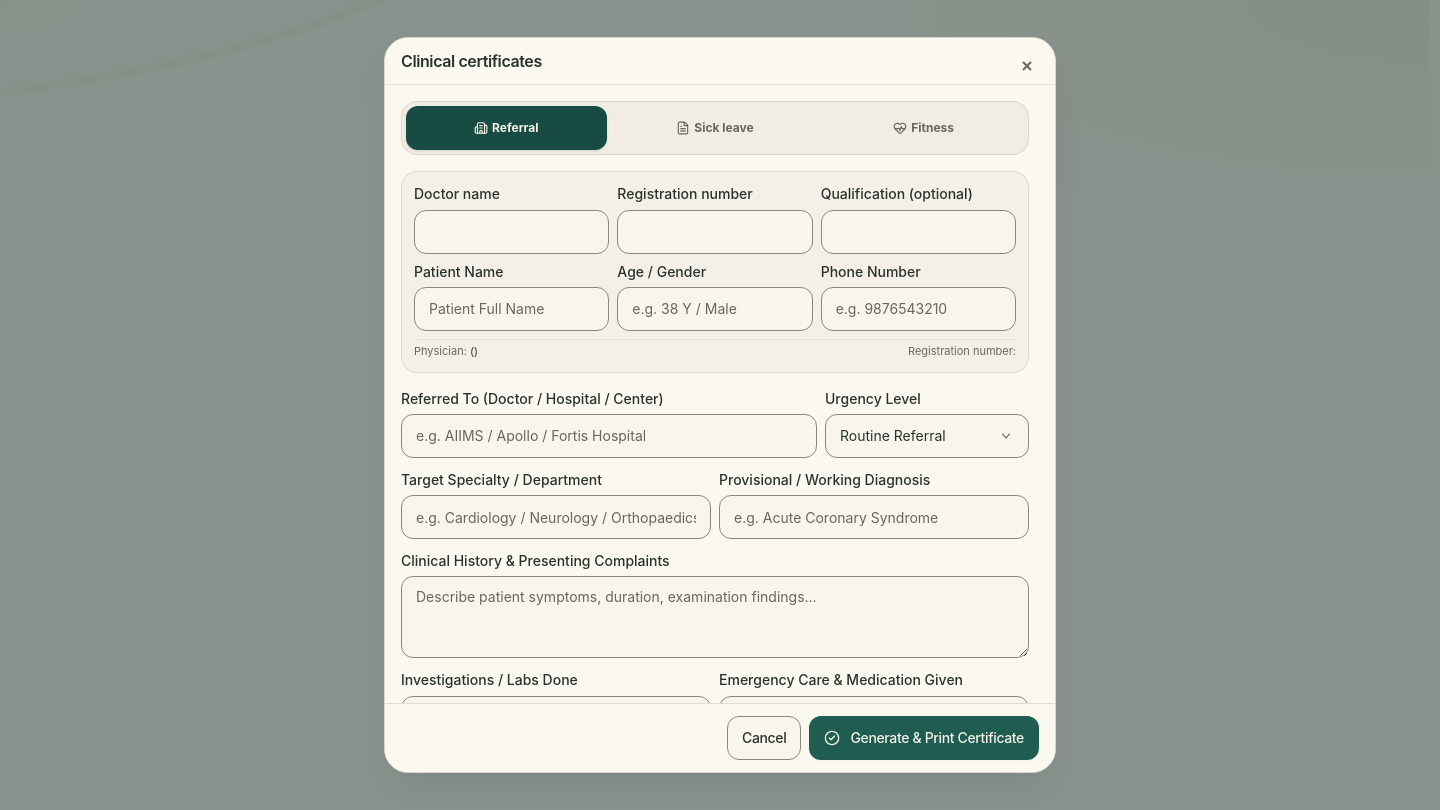
Test case: official clinical document generator › does not prefill fictional clinical findings or issue a document without real identity
Step 1. Type "Real Patient" into the field labelled "Patient Name" → (512, 309), box [414, 287, 609, 331]
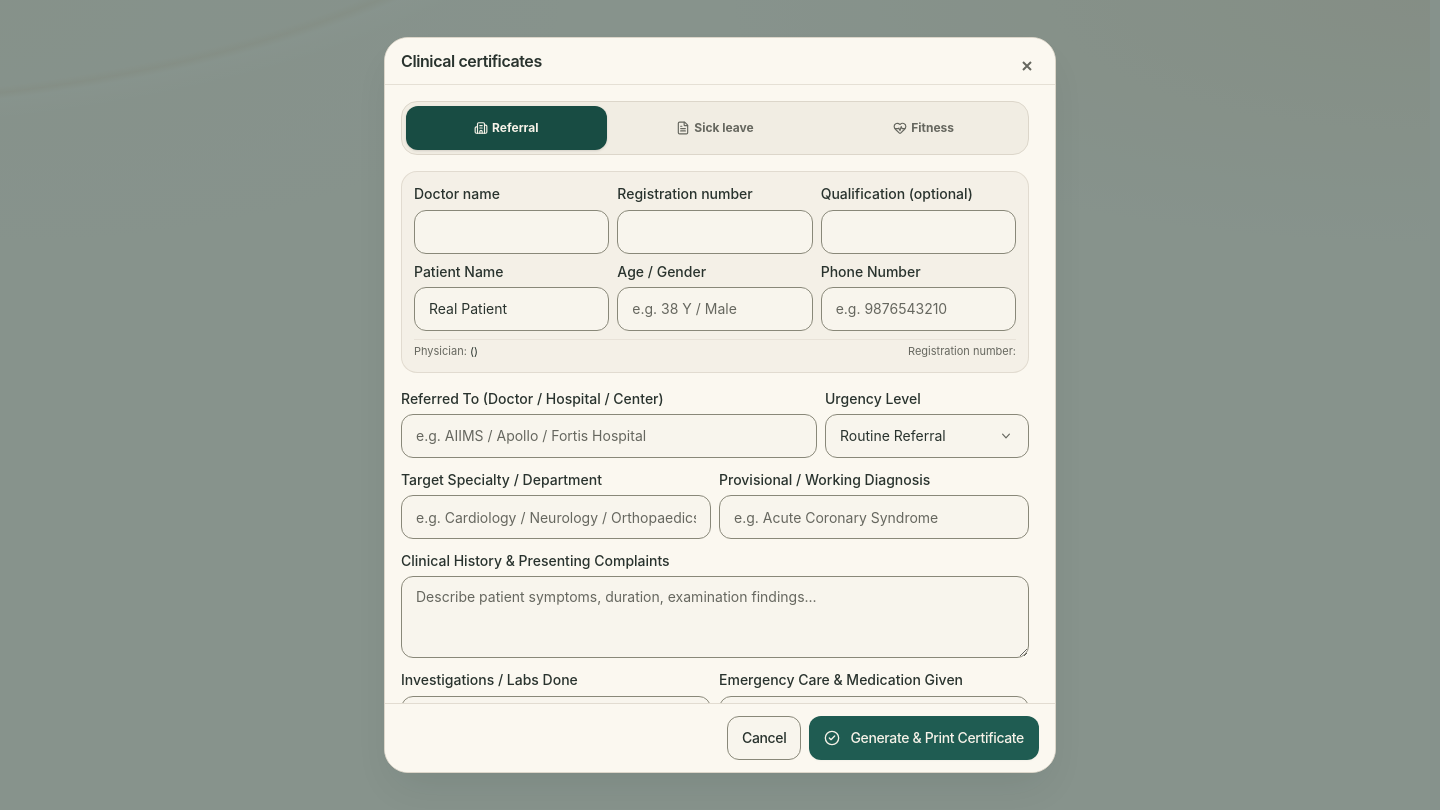
Step 2. Click the button "Generate & Print Certificate" → (924, 738), box [809, 716, 1039, 760]
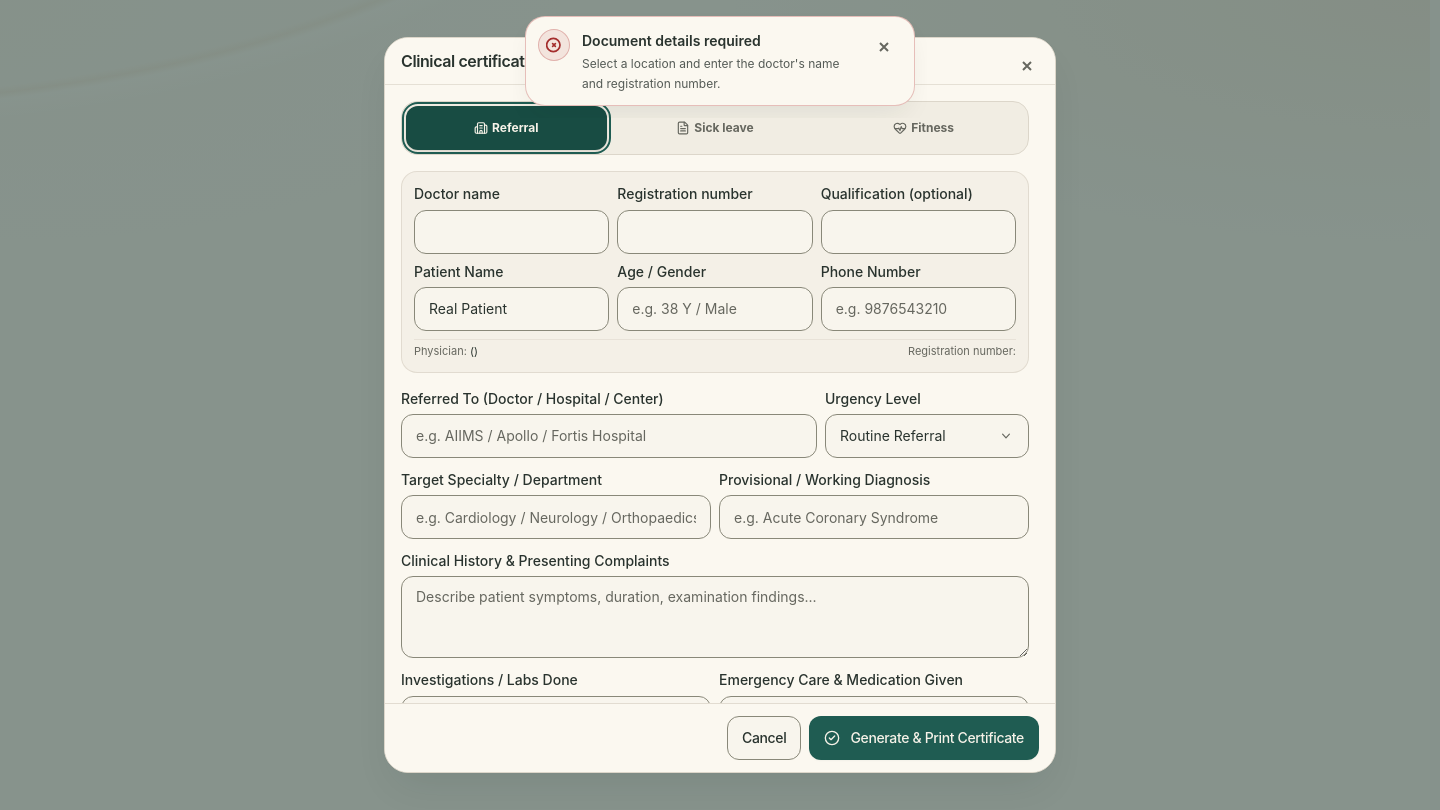
Check: the text "Document details required" is shown, box [582, 32, 761, 49]
